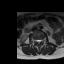CCS_normal: (38, 38, 39, 46)
LFS_normal: (41, 38, 43, 43)
LLS_normal: (39, 38, 41, 43)
RFS_normal: (34, 38, 36, 43)
RLS_normal: (36, 38, 38, 43)
